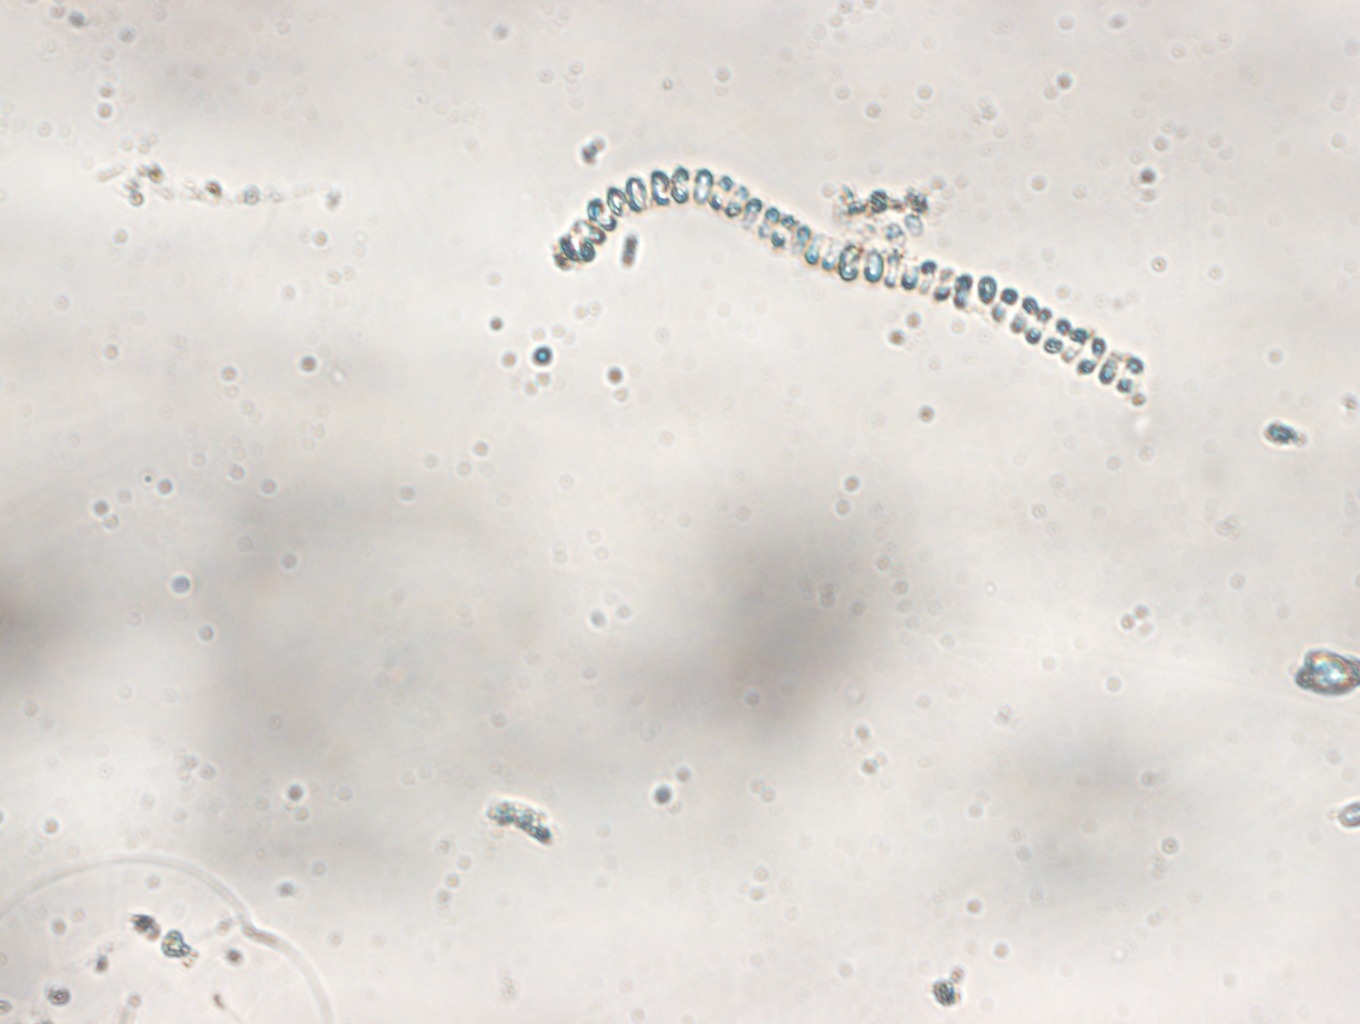skeletonema: (543, 157, 1151, 403)
